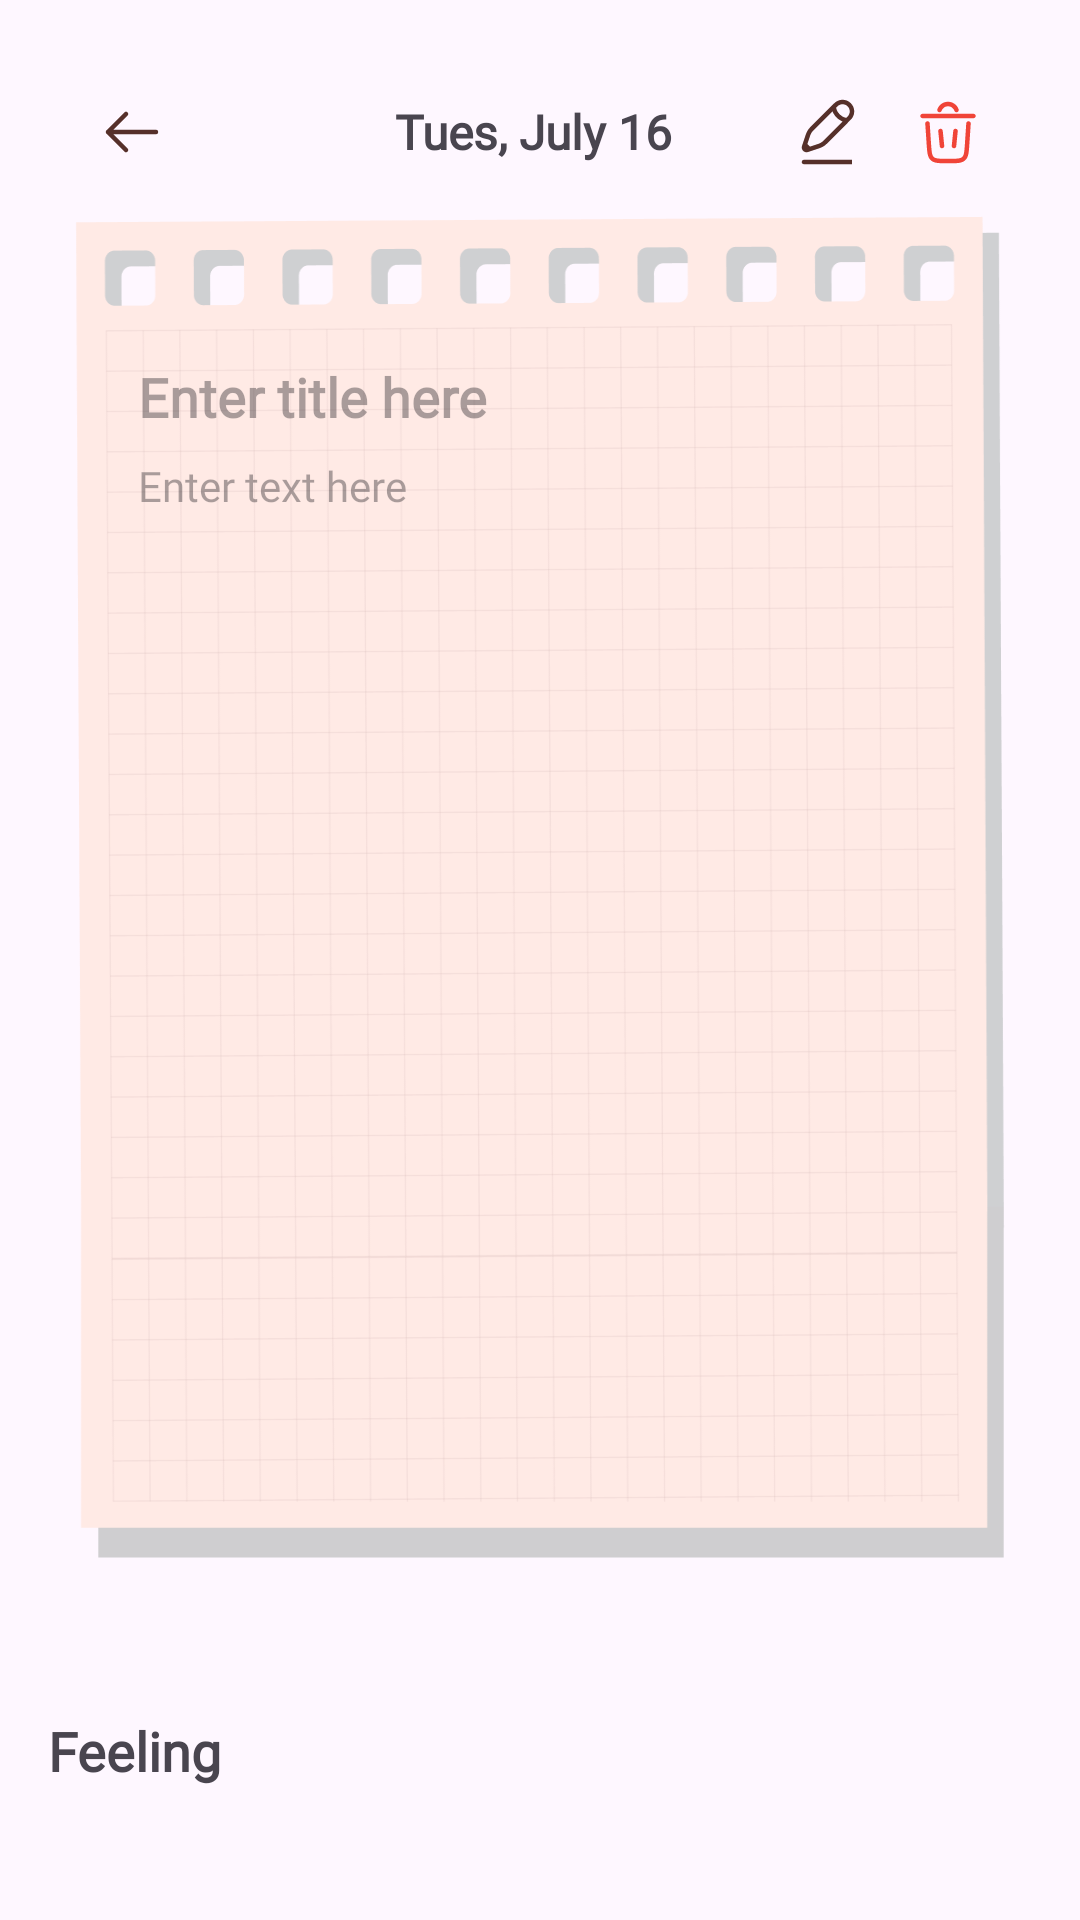

Where icons sit on this 1080*1920 app screen, as (x1, y1, x2, y2):
back: (105, 111, 158, 153)
trash: (920, 101, 976, 164)
